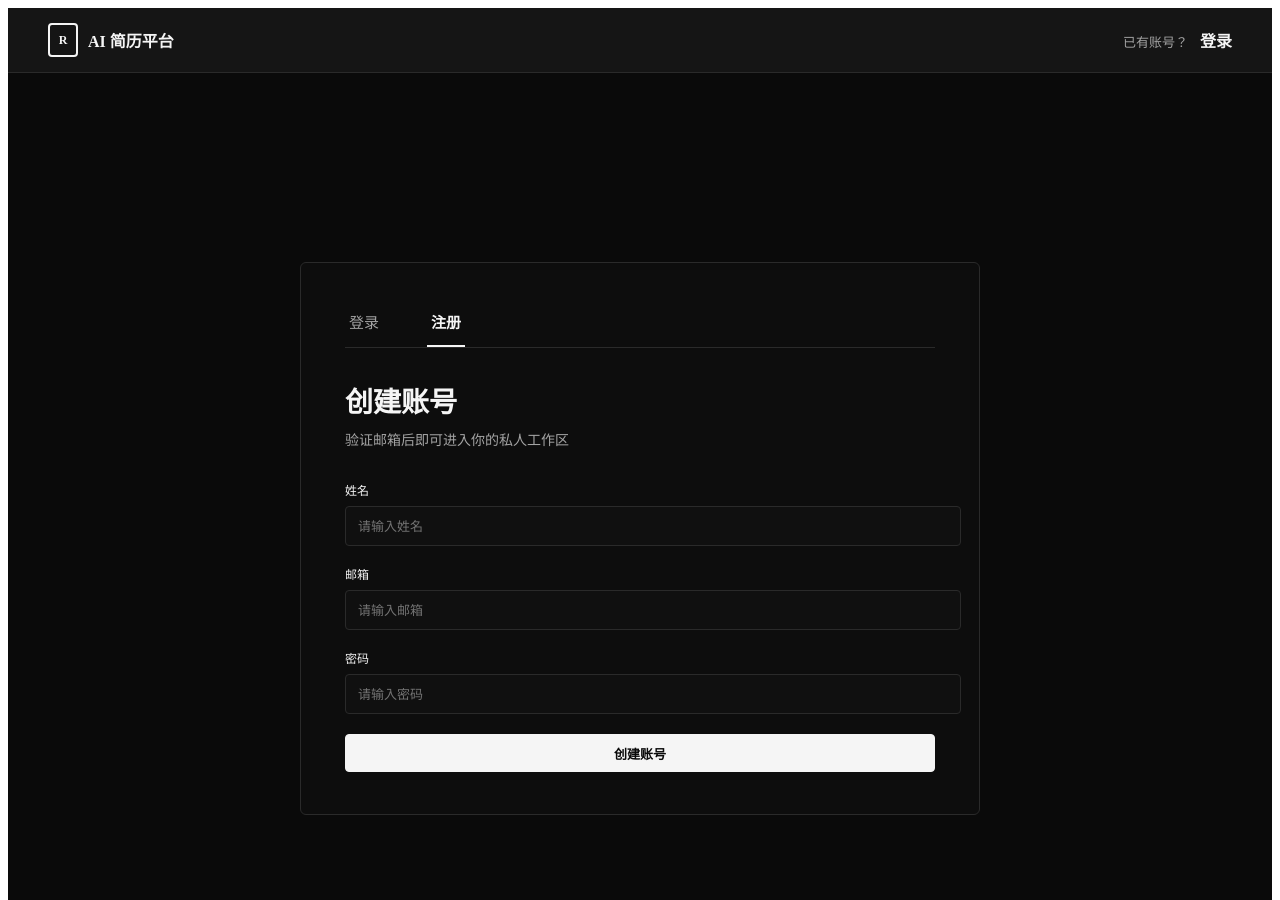
Test: authentication pages › registers with password-manager attributes and keeps only the email for safe resend
The width and height of the screenshot is (1280, 900).
Type "测试用户" into the field labelled "姓名" at (653, 526), box left=345, top=506, right=961, bottom=546
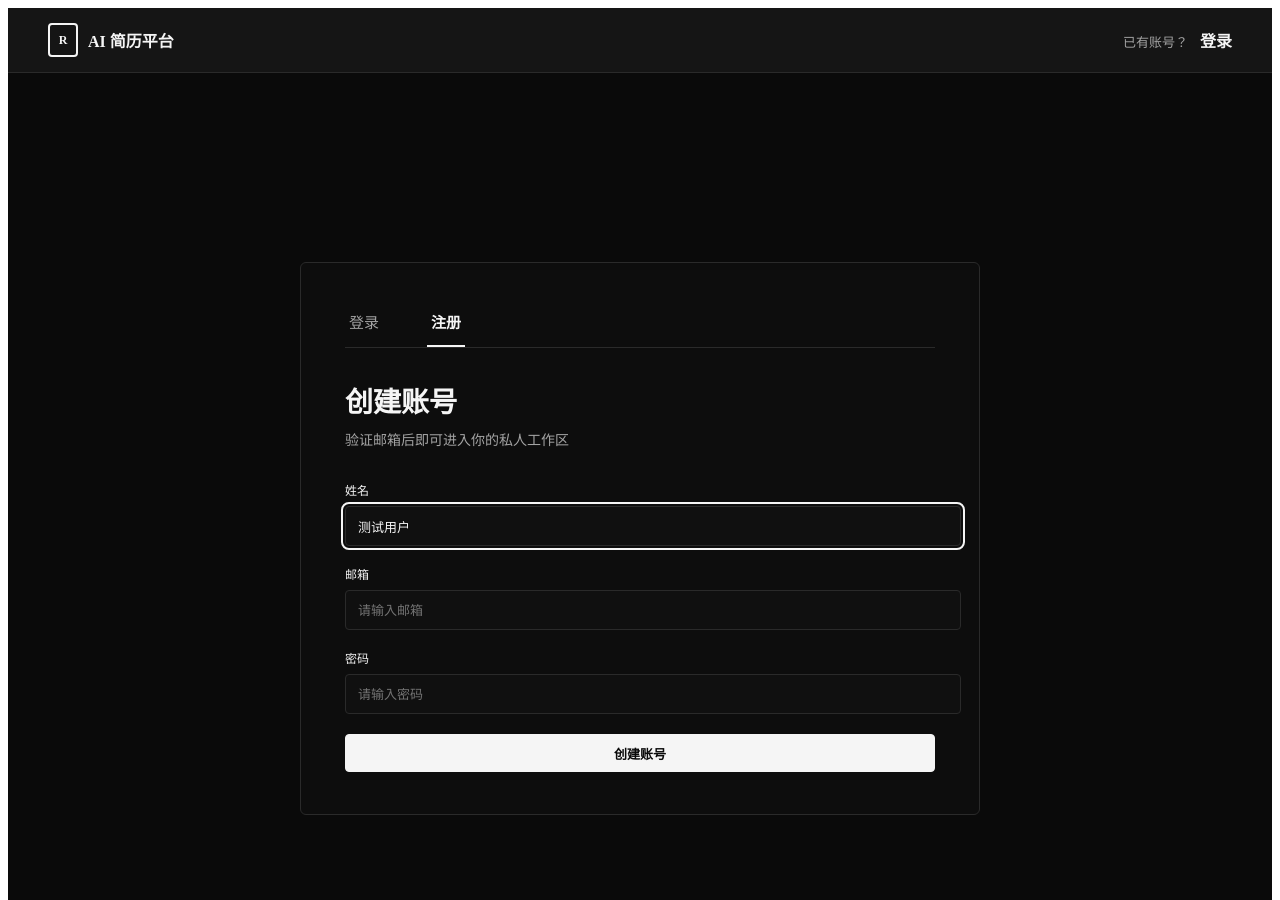
Type "new@example.cn" into the field labelled "邮箱" at (653, 610), box left=345, top=590, right=961, bottom=630
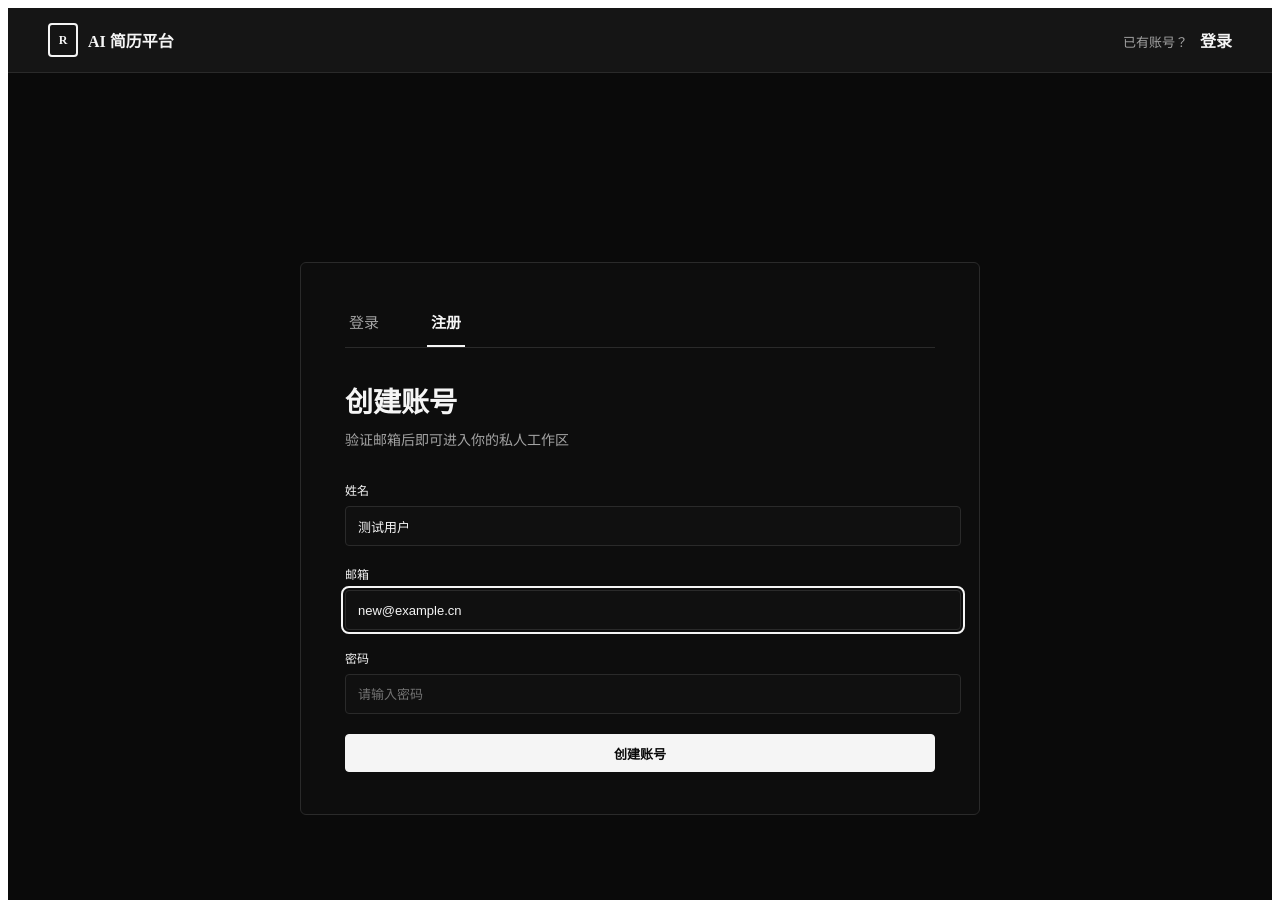
Type "Strong-password-123" into the password field labelled "密码" at (653, 694), box left=345, top=674, right=961, bottom=714
Then press Enter
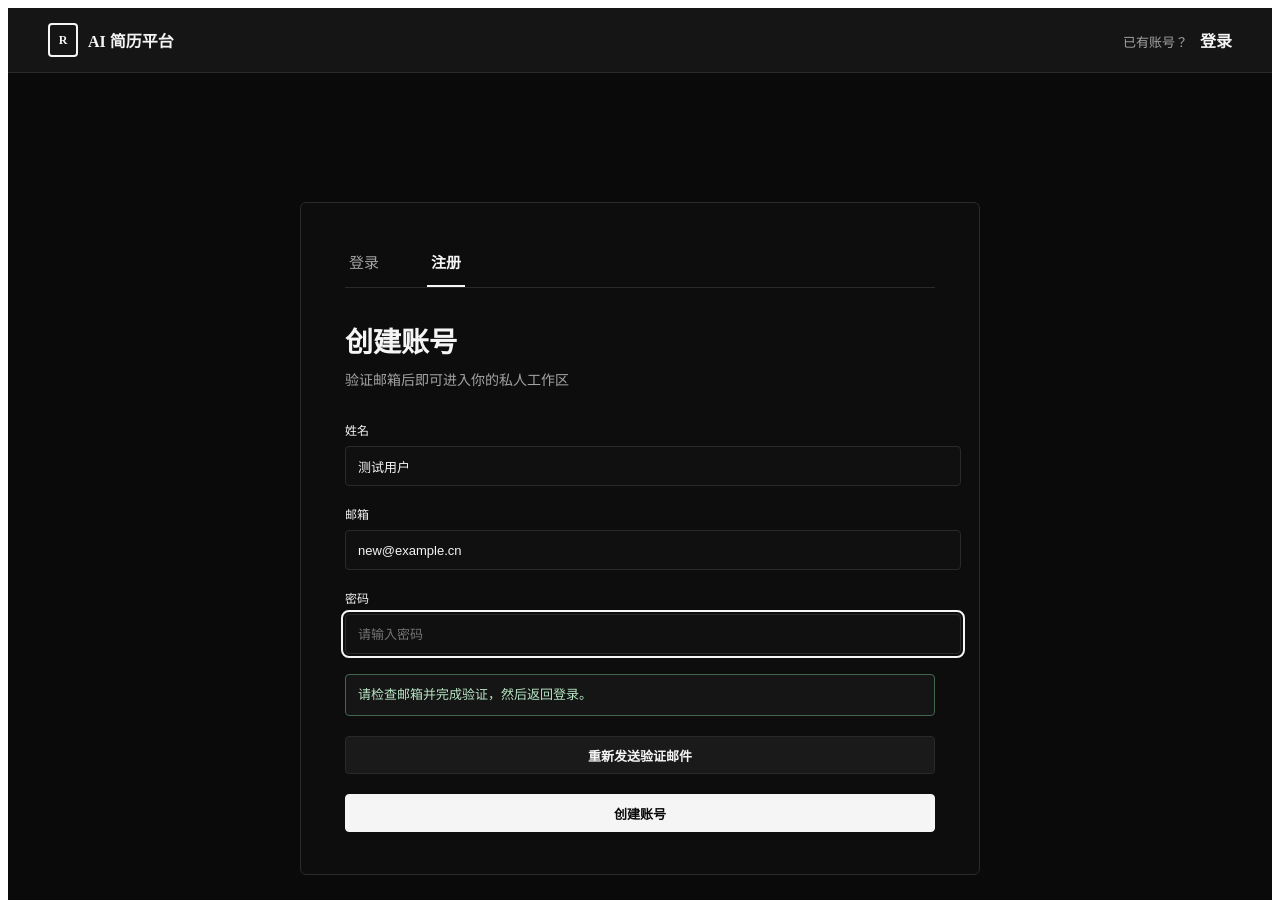
Check: the password field labelled "密码" is empty, box left=345, top=614, right=961, bottom=654
Check: the message shows "请检查邮箱", box left=358, top=687, right=592, bottom=702
